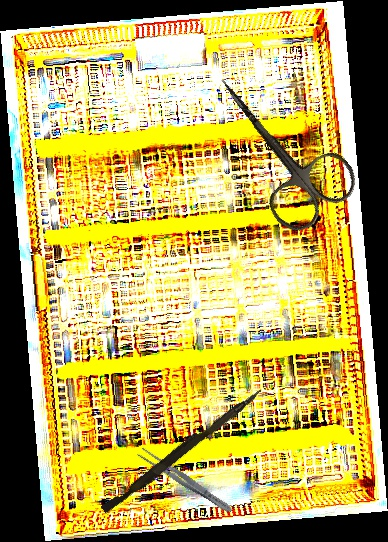Dressing Forceps: (135, 445, 236, 517)
Iris Scissors: (187, 49, 365, 242)
Pusher: (100, 382, 264, 518)
